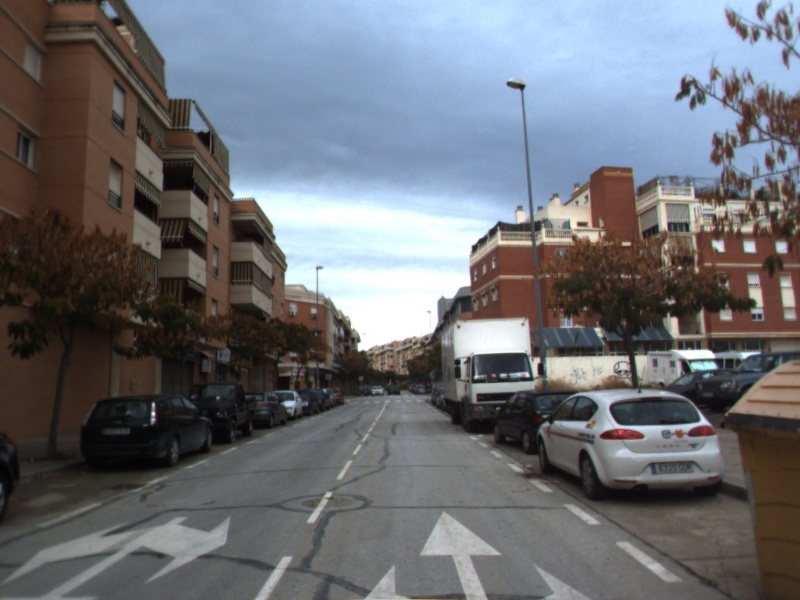STRAIGHT_LEFT_RIGHT: (357, 507, 599, 600)
